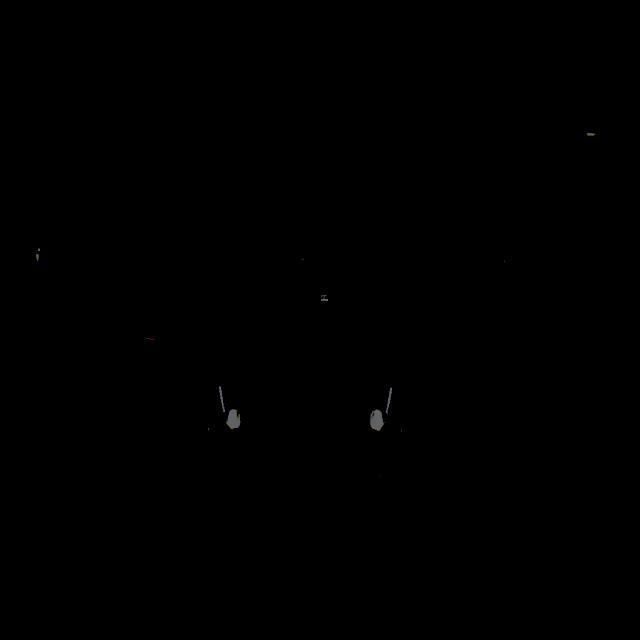Car: (187, 276, 455, 577)
